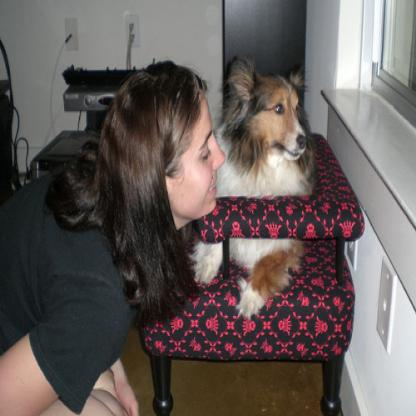Shetland_sheepdog: (185, 53, 315, 321)
